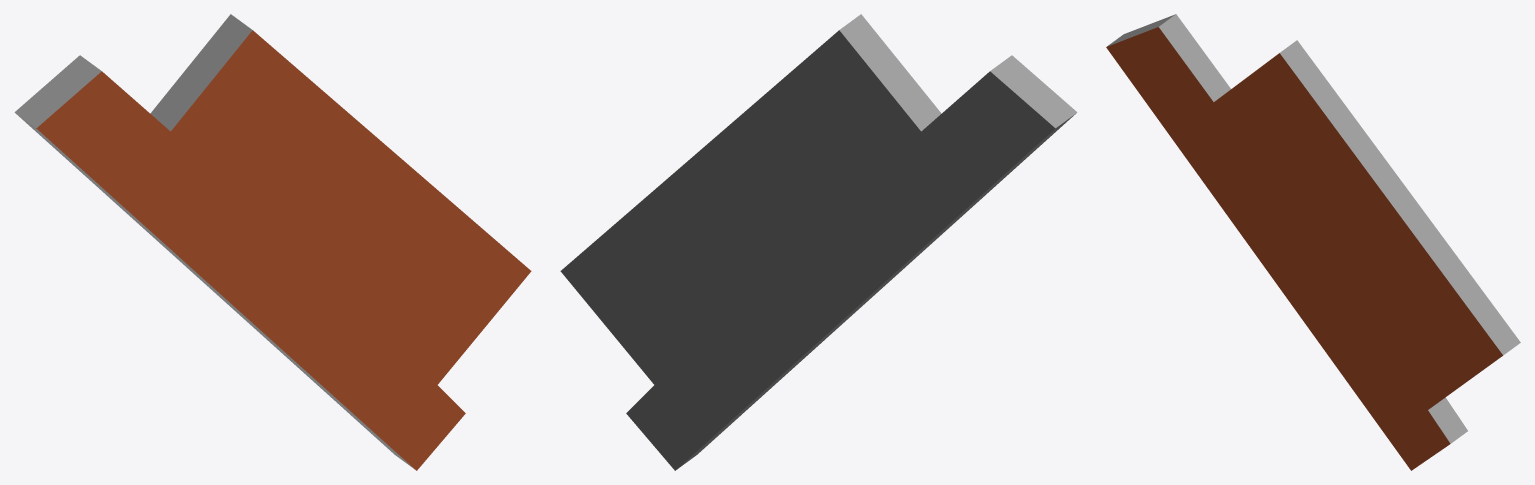
Rendered from construction_5571_assumed_A_Casa_h6m.obj.
3 views of the same model, side by side, from view 1: azimuth 30°, elevation 25°; view 2: azimuth 150°, elevation 25°; view 3: azimuth 330°, elevation 25° (orthographic). The views are drawn at different scales.
Visible parts, largest first — view 1: construction_5571_assumed_A_Casa; view 2: construction_5571_assumed_A_Casa; view 3: construction_5571_assumed_A_Casa.
Part boxes in pixels (x1,y1,x2,y2): construction_5571_assumed_A_Casa: (14,14,531,470); construction_5571_assumed_A_Casa: (560,14,1077,470); construction_5571_assumed_A_Casa: (1106,14,1520,470).
Bounding box in the file's own units: 78.08 × 72.48 × 6.
